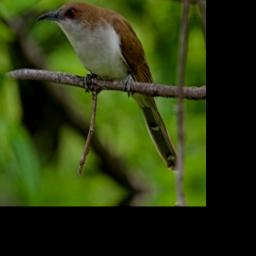Cuckoo: (35, 0, 179, 185)
